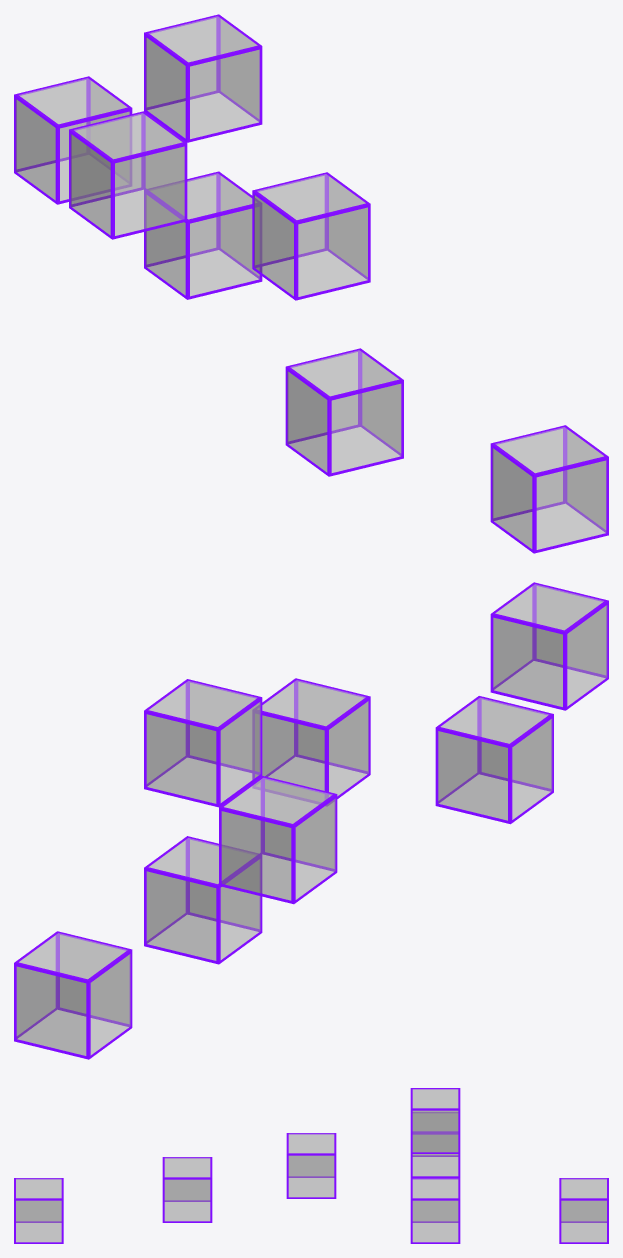
Rendered from (1)Easy Wall.fbx.
The picture shows the model from 3 angles, top to bottom: view 1: azimuth 30°, elevation 25°; view 2: azimuth 150°, elevation 25°; view 3: azimuth 270°, elevation 25°; orthographic projection. The views are drawn at different scales.
Visible parts, largest first — view 1: Wall.023, Wall.017, Wall.018, Wall.022, Wall.019, Wall.020, Wall.021; view 2: Wall.017, Wall.021, Wall.023, Wall.018, Wall.019, Wall.020, Wall.022; view 3: Wall.018, Wall.020, Wall.022, Wall.023, Wall.017, Wall.021, Wall.019.
Part boxes in pixels (x1,y1,x2,y2): Wall.023: (144,14,262,142); Wall.017: (490,425,608,553); Wall.018: (285,348,403,476); Wall.022: (252,172,370,300); Wall.019: (69,111,187,239); Wall.020: (144,171,262,299); Wall.021: (14,76,132,204); Wall.017: (490,582,608,710); Wall.021: (14,931,132,1059); Wall.023: (144,679,262,807); Wall.018: (435,696,553,824); Wall.019: (219,776,337,904); Wall.020: (144,836,262,964); Wall.022: (252,678,370,805); Wall.018: (162,1157,212,1222); Wall.020: (410,1178,460,1243); Wall.022: (286,1133,336,1198); Wall.023: (410,1088,460,1153); Wall.017: (14,1178,63,1243); Wall.021: (559,1178,608,1243); Wall.019: (410,1112,460,1177).
Size of the model in its own units: 400 by 600 by 2400.
